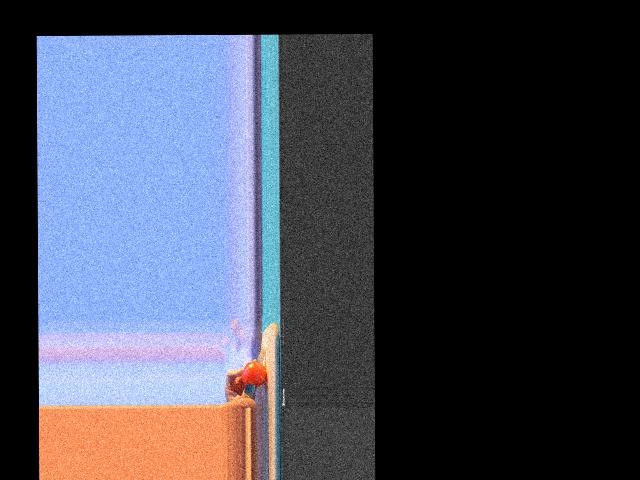tomato: (242, 360, 267, 386)
